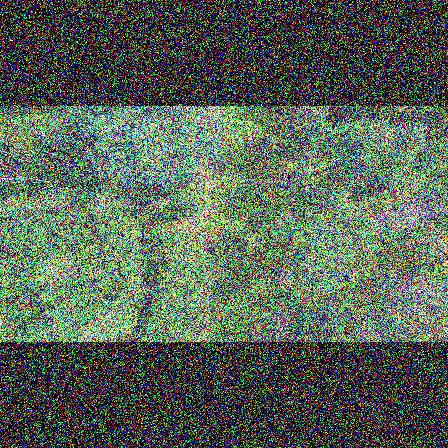Dead: (367, 287, 424, 315), (391, 282, 448, 305), (391, 198, 446, 220), (365, 278, 419, 298), (374, 209, 426, 226), (410, 277, 448, 294), (418, 277, 445, 288)
